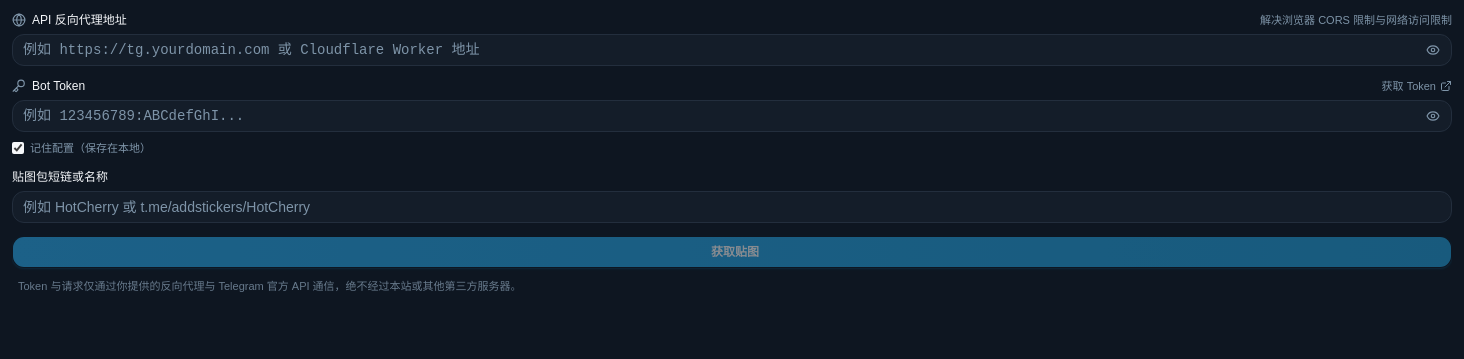
Scenario: TelegramBotForm 组件 › 验证非法的反向代理地址并阻止提交
Type "invalid-proxy-url" into the password field labelled "API 反向代理地址".
click(732, 50); type("invalid-proxy-url")  # box [12,34,1452,66]
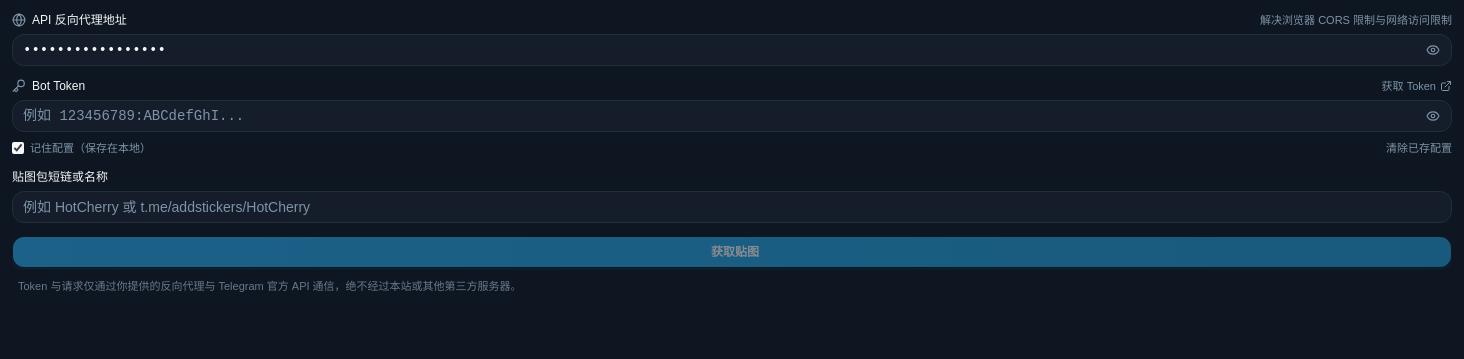
Type "123456789:ABCdefGhIJKlmNoPQRsTUVwxyZ_1234567" into the password field labelled "Bot Token".
click(732, 116); type("123456789:ABCdefGhIJKlmNoPQRsTUVwxyZ_1234567")  # box [12,100,1452,132]
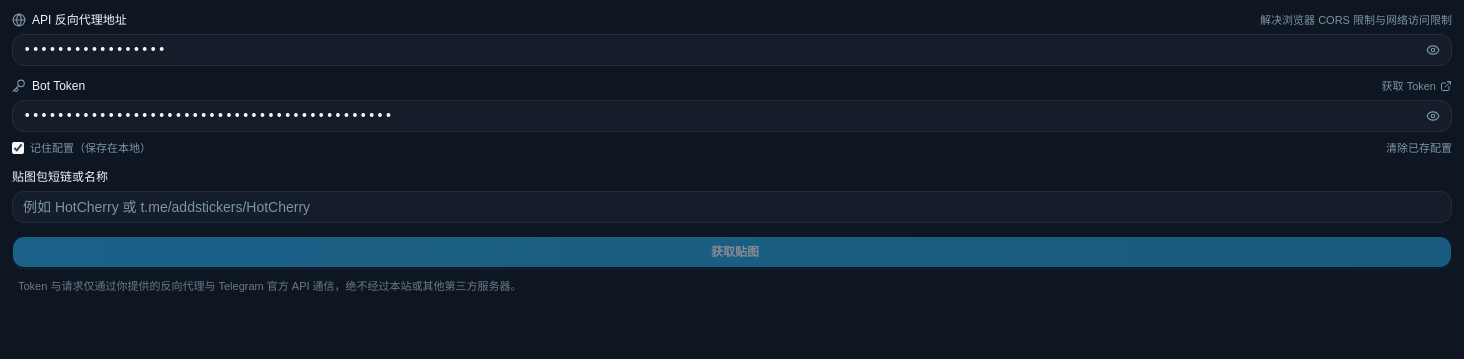
Type "HotCherry" into the field labelled "贴图包短链或名称".
click(732, 206); type("HotCherry")  # box [12,190,1452,222]
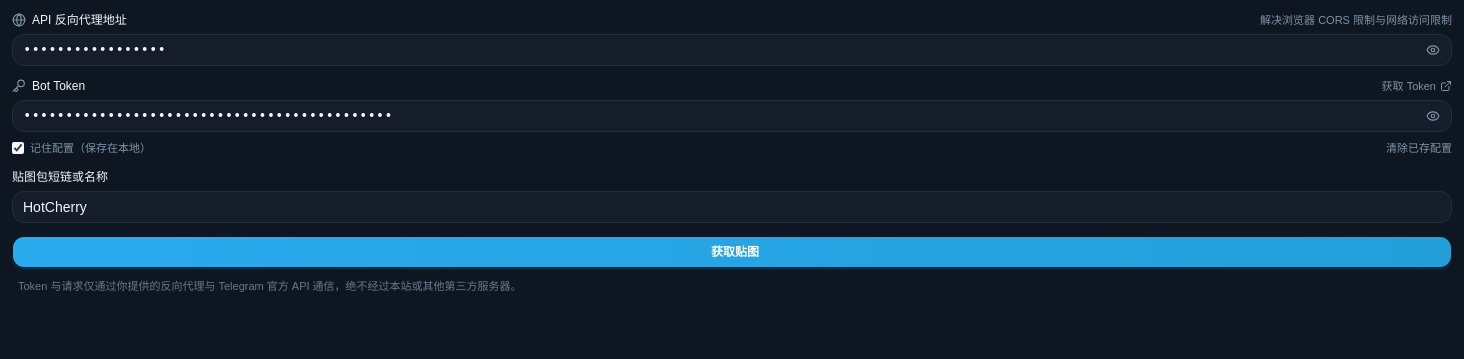
Expected: the button "获取贴图" is enabled
Click the button "获取贴图".
click(732, 252)  # box [12,236,1452,268]
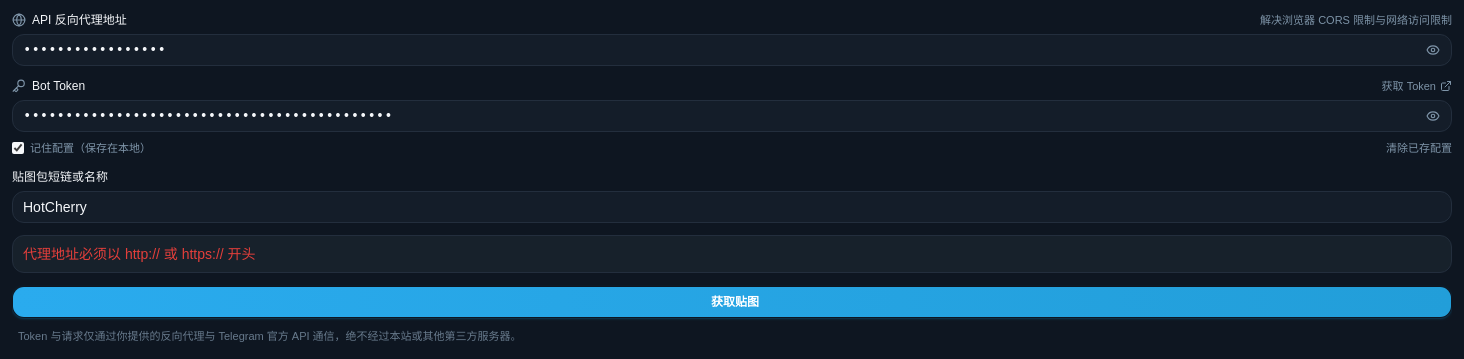
Expected: the text "代理地址必须以 http:// 或 https:// 开头" is shown, [23,246,256,262]
